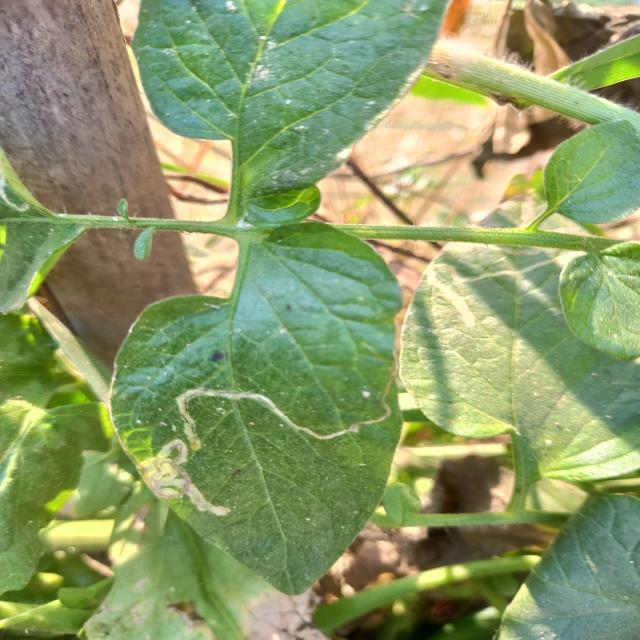Tuta absoluta: (132, 363, 372, 550)
